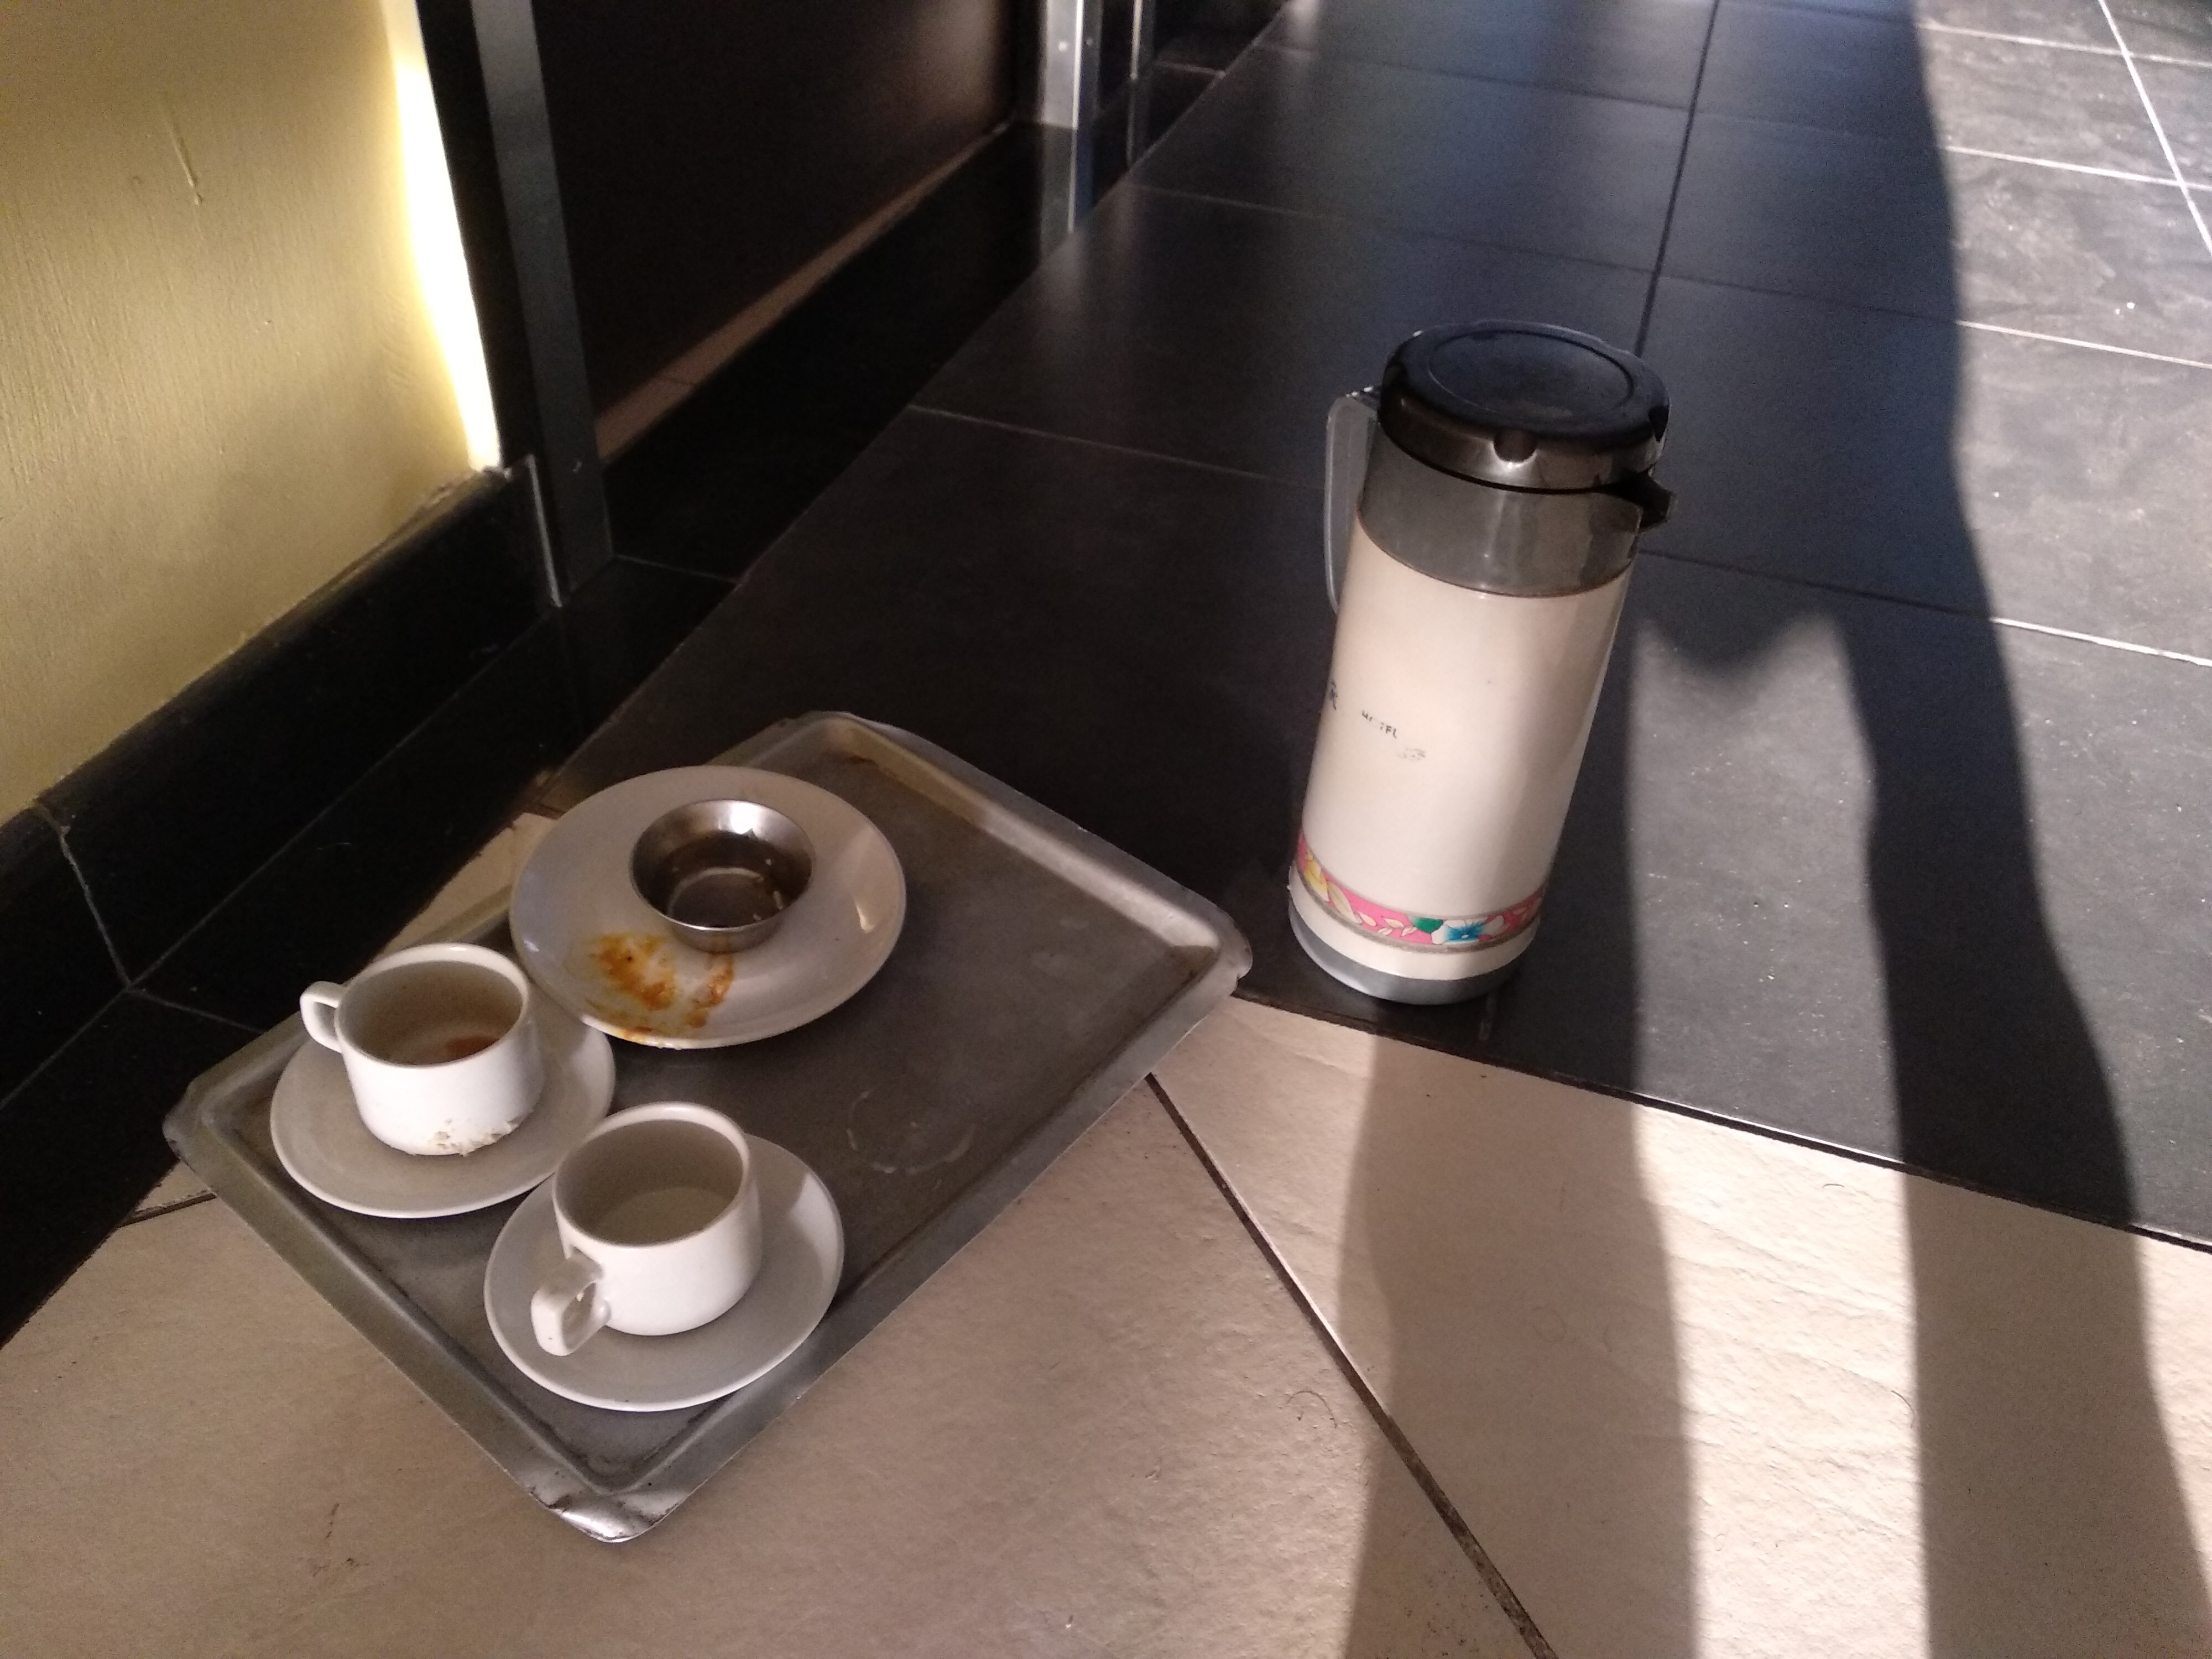CUP: (528, 1103, 801, 1354), (286, 941, 559, 1154), (624, 789, 829, 938)
JUG: (1303, 319, 1669, 1012)
